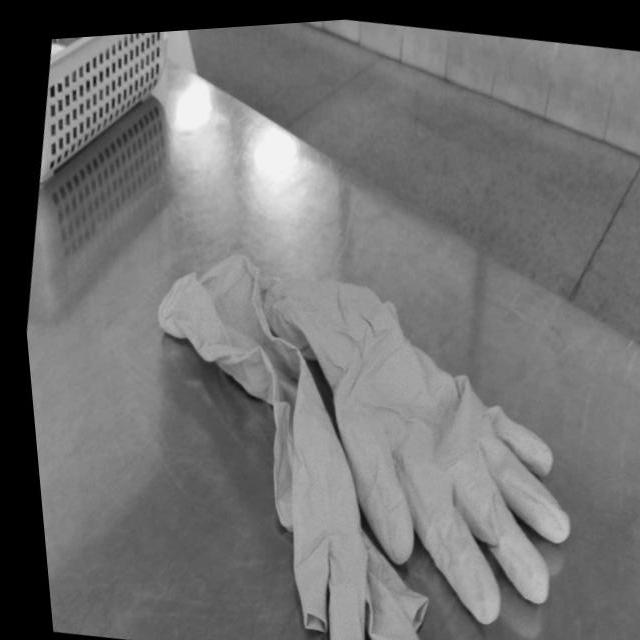General: (22, 22, 639, 639), (156, 250, 572, 639)
Sharps: (51, 630, 137, 639)
